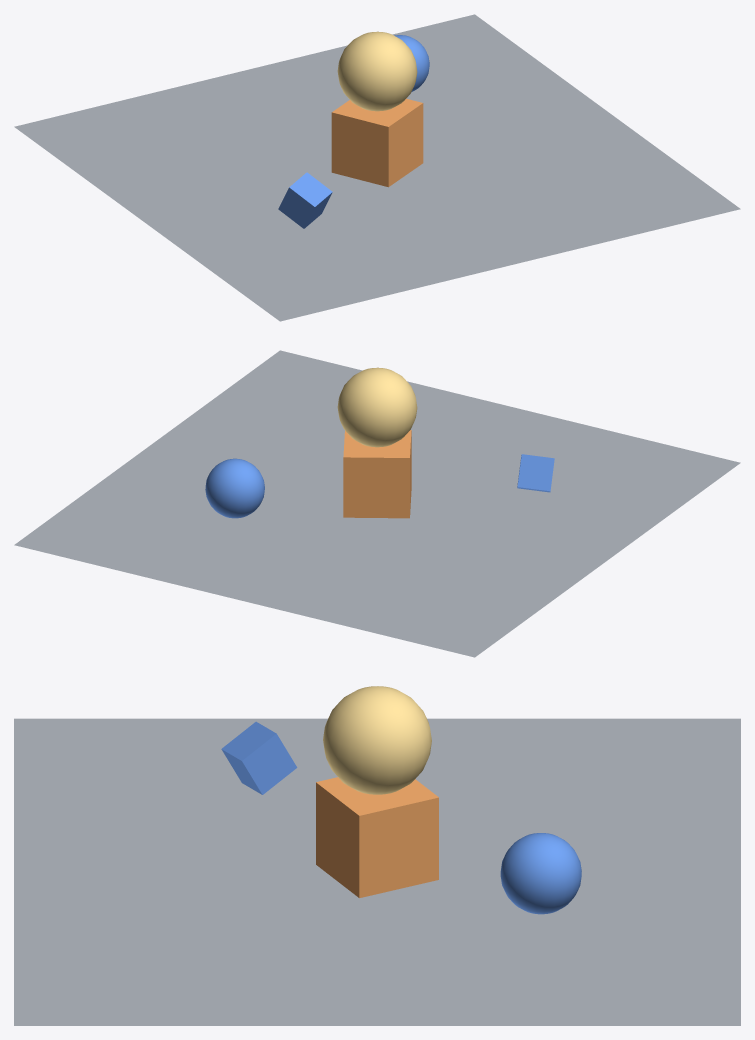
File: sample.glb
The picture shows the model from 3 angles, top to bottom: view 1: azimuth 30°, elevation 25°; view 2: azimuth 150°, elevation 25°; view 3: azimuth 270°, elevation 25°; orthographic projection. The views are drawn at different scales.
Parts seen in each view (by area): view 1: ground, pedestal, ball, satellite, moon; view 2: ground, pedestal, ball, moon, satellite; view 3: ground, pedestal, ball, moon, satellite.
Part boxes in pixels (x1,y1,x2,y2): ground: (14, 14, 740, 321); pedestal: (331, 98, 423, 187); ball: (337, 31, 417, 111); satellite: (278, 172, 332, 228); moon: (394, 35, 429, 92); ground: (14, 350, 740, 657); pedestal: (343, 430, 411, 518); ball: (337, 367, 417, 447); moon: (205, 458, 264, 518); satellite: (517, 454, 554, 492); ground: (14, 718, 740, 1025); pedestal: (316, 777, 438, 898); ball: (323, 686, 431, 794); moon: (500, 833, 581, 914); satellite: (221, 721, 297, 794).
Size of the model in its own units: 8 by 2.2 by 8.
